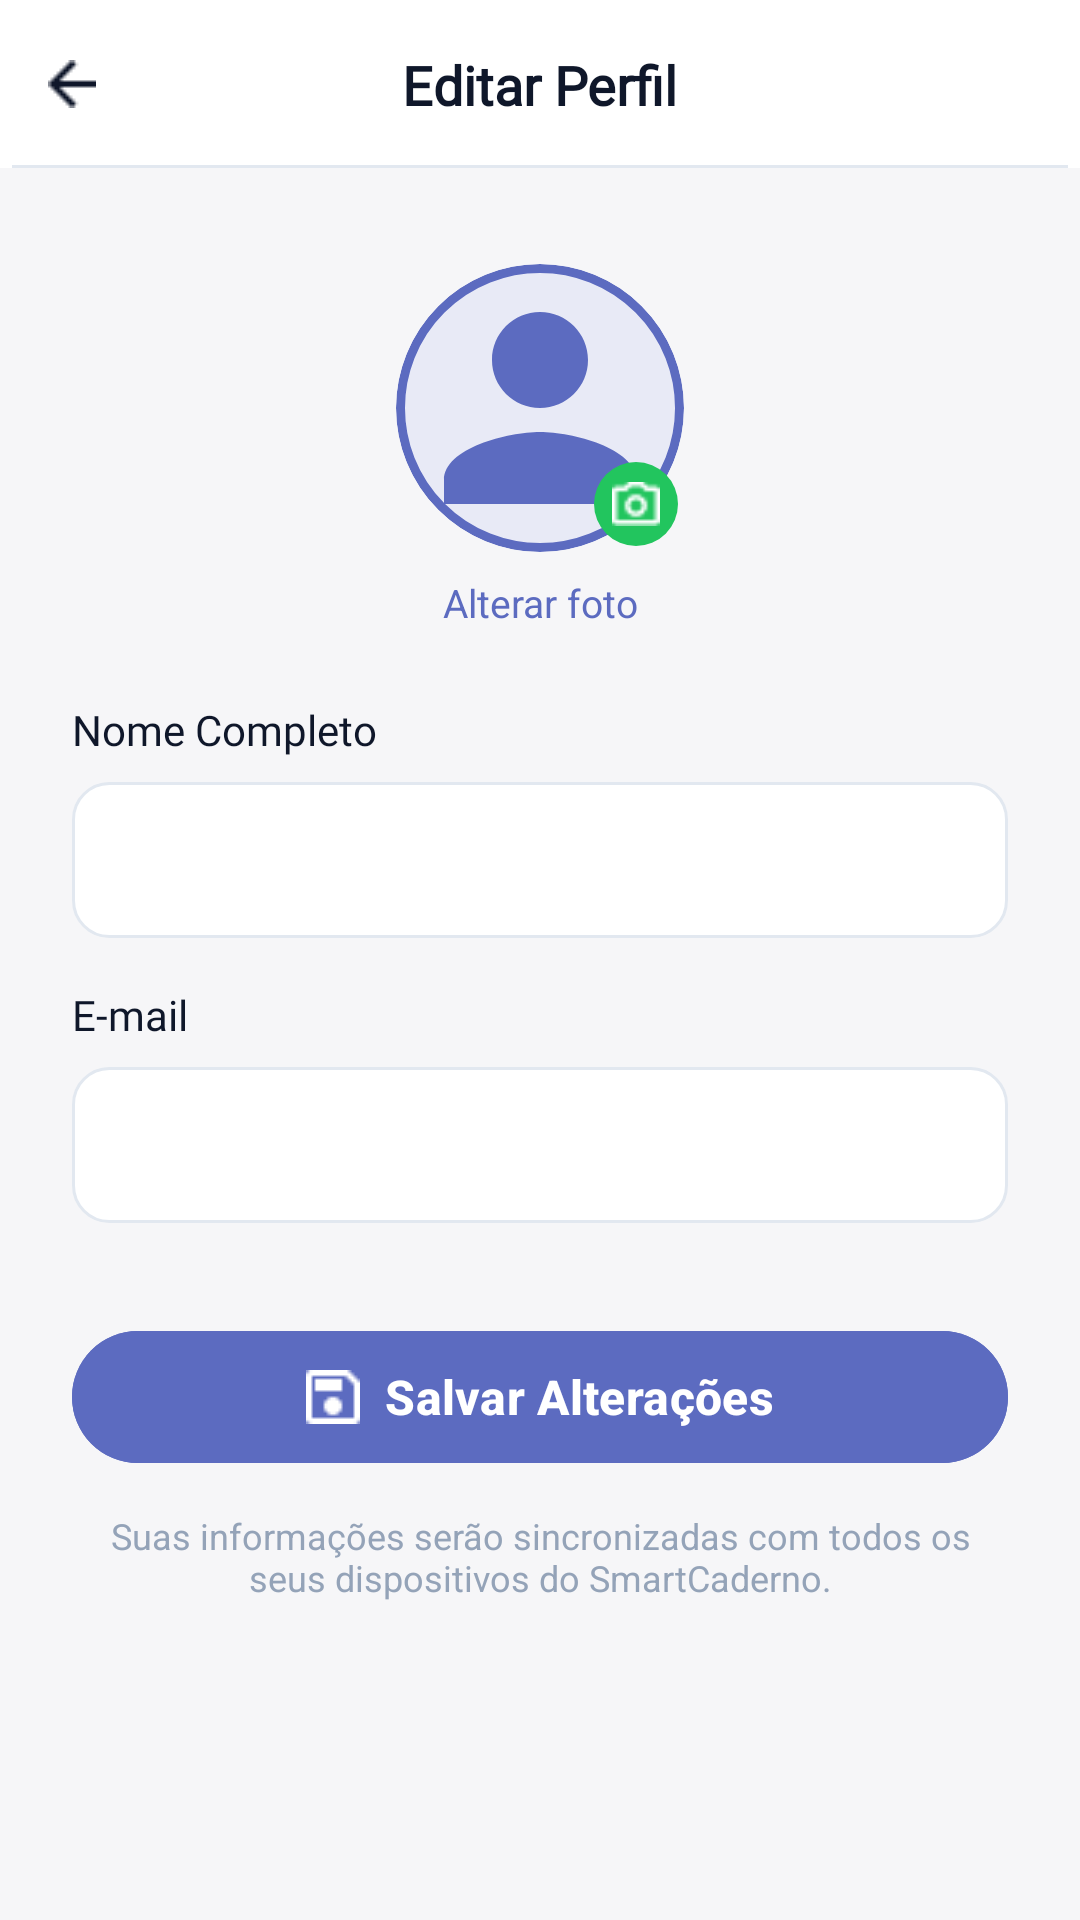

Named icons in this screenshot (1080px x 1920px) and their bounding boxes, bbox(x1, y1, x2, y2):
camera: bbox(612, 482, 660, 526)
Voltar: bbox(48, 60, 96, 108)
